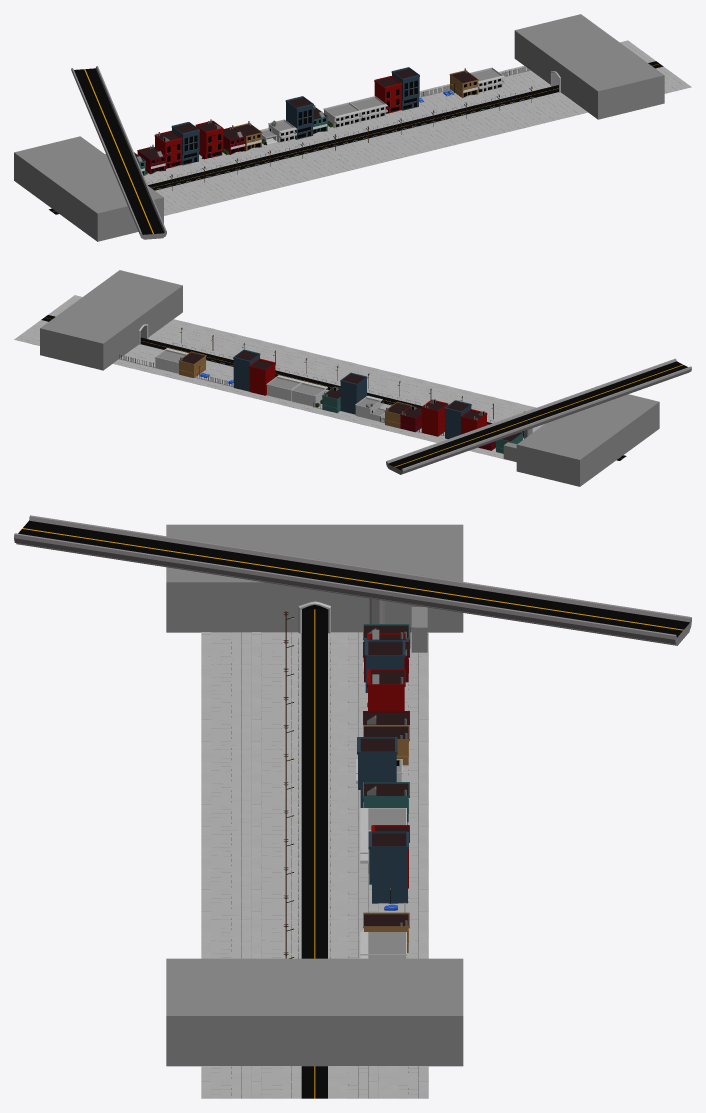
3 renders of one model, top to bottom at view 1: azimuth 30°, elevation 25°; view 2: azimuth 150°, elevation 25°; view 3: azimuth 270°, elevation 25°, orthographic. The views are drawn at different scales.
Parts seen in each view (by area): view 1: OriginRoad, Cube.012, Cube.007, overpass.001, Building_red.002, Building_red, Building_red.005, Building_red.003, Building_red.004, Building_red.001, Cube.008, Building_low_darkYellow.001 (+6 smaller); view 2: OriginRoad, Cube.012, Cube.007, overpass.001, Building_red.002, Building_red.004, Building_red, Building_red.005, Building_red.003, Cube.008, Cube.001, Building_low_darkYellow.001 (+6 smaller); view 3: OriginRoad, Cube.012, Cube.007, overpass.001, Building_red.005, Building_red.002, Building_red, Building_red.003, Cube.013, Building_low_red.002, Building_low_darkYellow.001, Building_low_darkYellow (+1 smaller).
Part boxes in pixels (<box>): OriginRoad: <box>49,40,691,215</box>; Cube.012: <box>514,14,664,119</box>; Cube.007: <box>14,136,163,241</box>; overpass.001: <box>71,66,166,239</box>; Building_red.002: <box>285,96,313,139</box>; Building_red: <box>195,120,223,158</box>; Building_red.005: <box>391,67,419,110</box>; Building_red.003: <box>171,122,199,165</box>; Building_red.004: <box>374,76,402,113</box>; Building_red.001: <box>154,130,182,168</box>; Cube.008: <box>323,102,362,128</box>; Building_low_darkYellow.001: <box>449,68,478,98</box>; OriginRoad: <box>14,295,626,462</box>; Cube.012: <box>40,270,182,370</box>; Cube.007: <box>503,394,659,486</box>; overpass.001: <box>386,358,691,474</box>; Building_red.002: <box>340,372,367,414</box>; Building_red.004: <box>249,358,275,395</box>; Building_red: <box>421,399,448,436</box>; Building_red.005: <box>233,349,260,391</box>; Building_red.003: <box>444,400,471,438</box>; Cube.008: <box>291,381,327,406</box>; Cube.001: <box>266,375,302,400</box>; Building_low_darkYellow.001: <box>178,351,206,377</box>; OriginRoad: <box>201,609,428,1098</box>; Cube.012: <box>166,958,463,1066</box>; Cube.007: <box>166,524,463,652</box>; overpass.001: <box>14,515,691,645</box>; Building_red.005: <box>368,831,408,903</box>; Building_red.002: <box>357,737,397,807</box>; Building_red: <box>367,669,405,710</box>; Building_red.003: <box>364,640,405,692</box>; Cube.013: <box>360,931,406,958</box>; Building_low_red.002: <box>363,782,409,822</box>; Building_low_darkYellow.001: <box>363,912,409,952</box>; Building_low_darkYellow: <box>363,725,409,765</box>.
Size of the model in its own units: 372 by 202 by 21.29.
